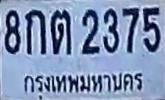2: (81, 8, 99, 54)
3: (102, 8, 118, 52)
5: (143, 6, 160, 52)
7: (122, 7, 138, 52)
8: (4, 9, 20, 53)
A01: (25, 9, 45, 54)
A21: (50, 9, 70, 54)
BKK: (22, 71, 144, 94)
